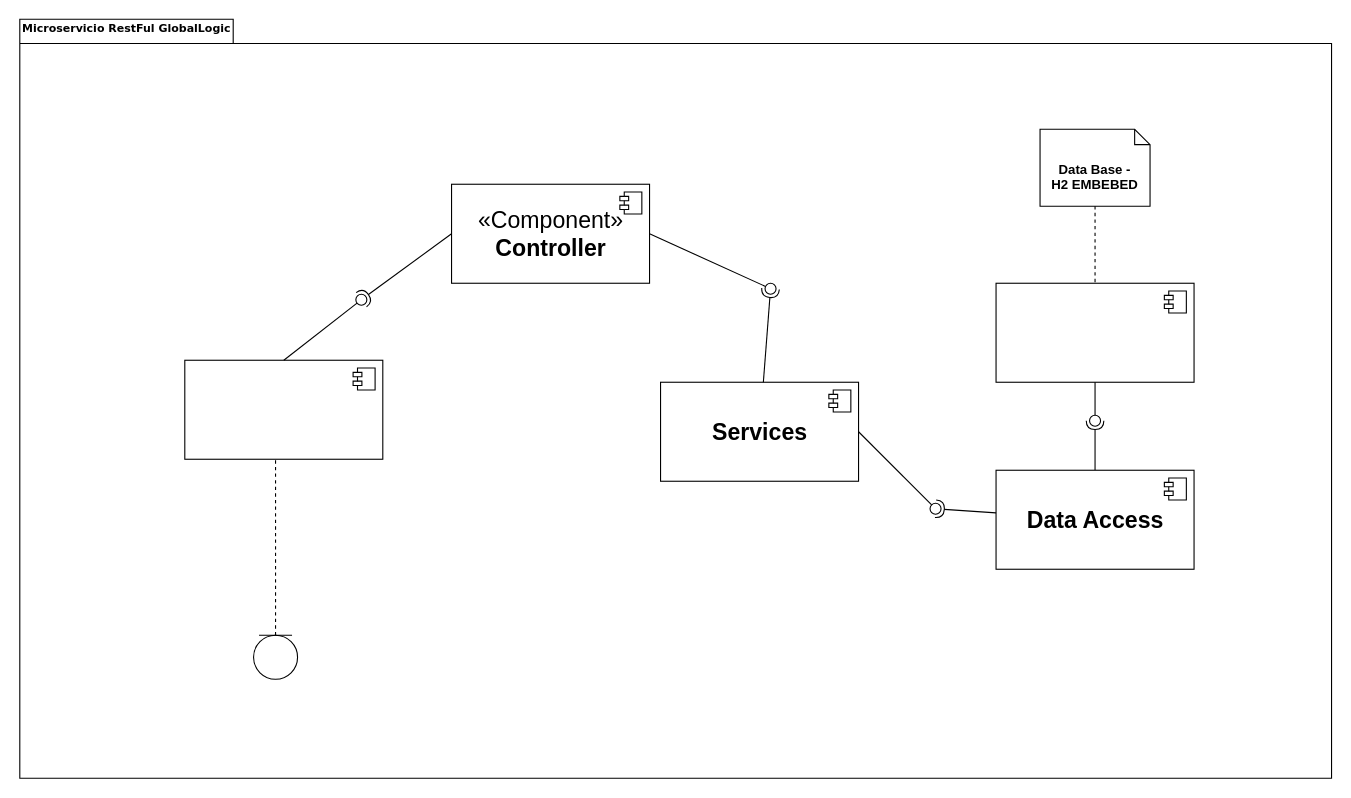
Some shapes in this 1351 by 798 pixel diagram are drawn without their labels. The centre of each missing label's shape, as x and y in pixels:
"Communication" belongs at point 283,409.
"Model" belongs at point 1094,332.
